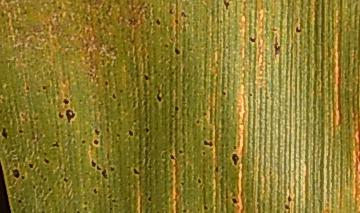tarspot: (266, 37, 286, 56), (170, 43, 186, 60), (152, 89, 170, 104), (1, 123, 13, 145), (228, 148, 241, 168), (66, 106, 78, 127), (226, 193, 244, 206), (53, 107, 67, 122), (201, 138, 217, 151), (151, 15, 164, 31), (9, 165, 23, 179), (49, 138, 61, 153), (107, 160, 119, 175), (246, 33, 259, 46), (89, 135, 101, 148), (124, 127, 137, 139), (129, 164, 141, 177), (90, 126, 104, 137), (58, 95, 71, 106), (139, 72, 152, 83), (293, 22, 304, 35), (220, 1, 233, 12), (212, 163, 222, 177), (41, 155, 52, 167), (24, 160, 36, 171), (200, 202, 212, 213), (194, 175, 205, 187), (78, 135, 88, 148), (167, 149, 176, 163), (282, 202, 293, 213), (89, 158, 99, 170), (38, 81, 48, 93), (218, 88, 228, 100), (143, 122, 151, 136), (90, 186, 101, 196), (172, 105, 182, 115), (109, 91, 117, 103), (144, 194, 153, 204), (285, 195, 294, 204), (62, 173, 70, 183), (21, 85, 32, 92), (97, 167, 105, 176), (16, 197, 24, 206)
